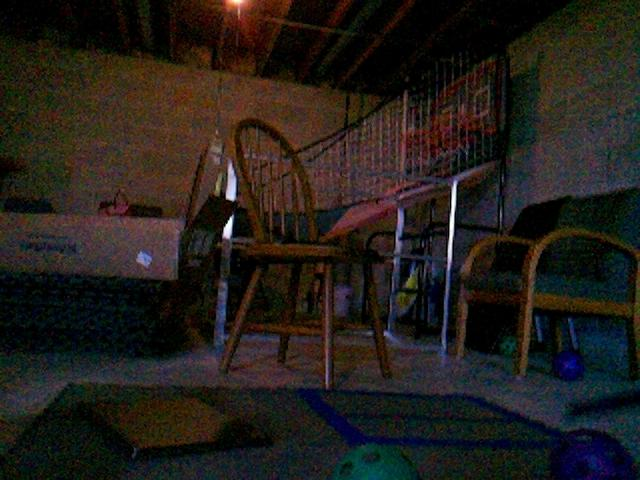Green: (330, 442, 421, 480), (498, 335, 518, 356)
Purple: (549, 428, 639, 480), (551, 348, 587, 383)
